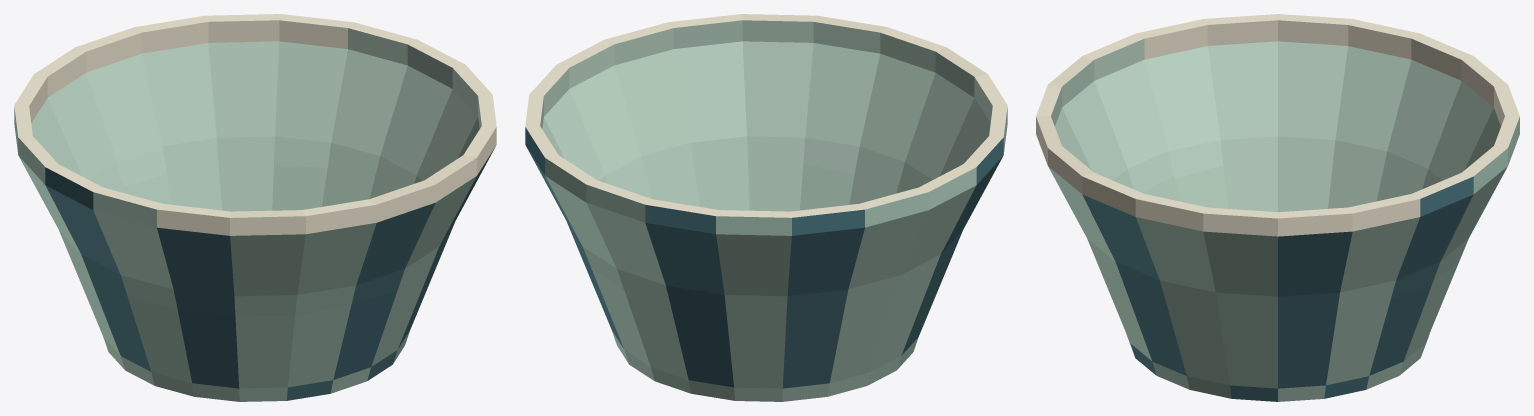
File: vessel-hasami.glb
3 views of the same model, side by side, from view 1: azimuth 30°, elevation 25°; view 2: azimuth 150°, elevation 25°; view 3: azimuth 270°, elevation 25° (orthographic).
Visible parts, largest first — view 1: vessel-hasami/complete-inner-outer-shell-with-drainage; view 2: vessel-hasami/complete-inner-outer-shell-with-drainage; view 3: vessel-hasami/complete-inner-outer-shell-with-drainage.
Part boxes in pixels (x1=…): vessel-hasami/complete-inner-outer-shell-with-drainage: x1=14, y1=14, x2=496, y2=401; vessel-hasami/complete-inner-outer-shell-with-drainage: x1=525, y1=14, x2=1007, y2=401; vessel-hasami/complete-inner-outer-shell-with-drainage: x1=1036, y1=14, x2=1519, y2=401.
Bounding box in the file's own units: 0.292 × 0.158 × 0.292.
Materials: 1 (1 with a texture image).
